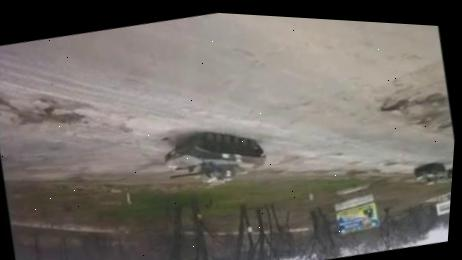tank: (155, 116, 272, 198), (411, 159, 451, 190), (445, 166, 453, 188)
